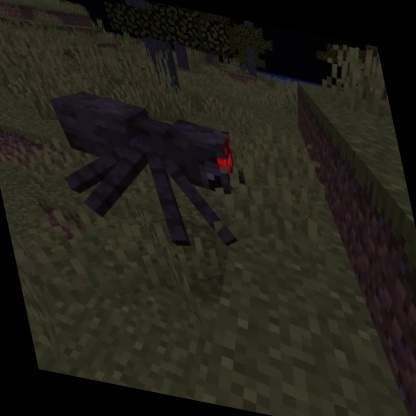spider: (39, 79, 268, 268)
